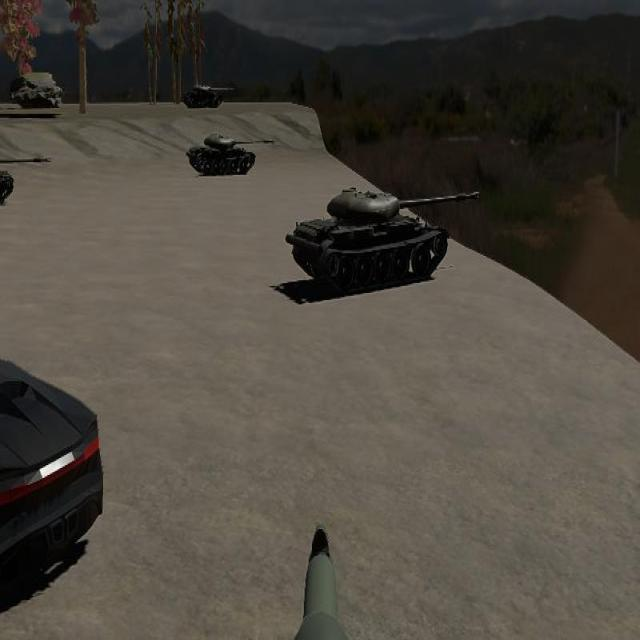Tank: (285, 187, 481, 294), (186, 133, 274, 177), (0, 150, 52, 209), (183, 82, 235, 110), (0, 151, 15, 209)
car: (0, 352, 105, 621)
